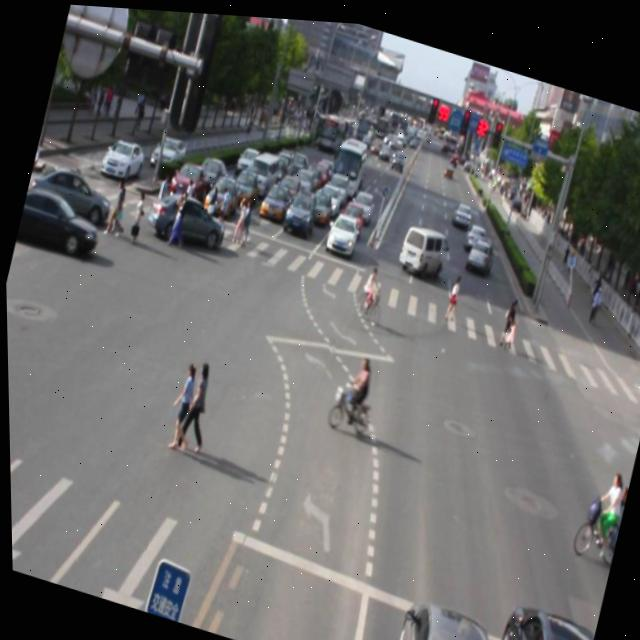car: (378, 588, 503, 640), (144, 180, 230, 254), (477, 587, 595, 640)
